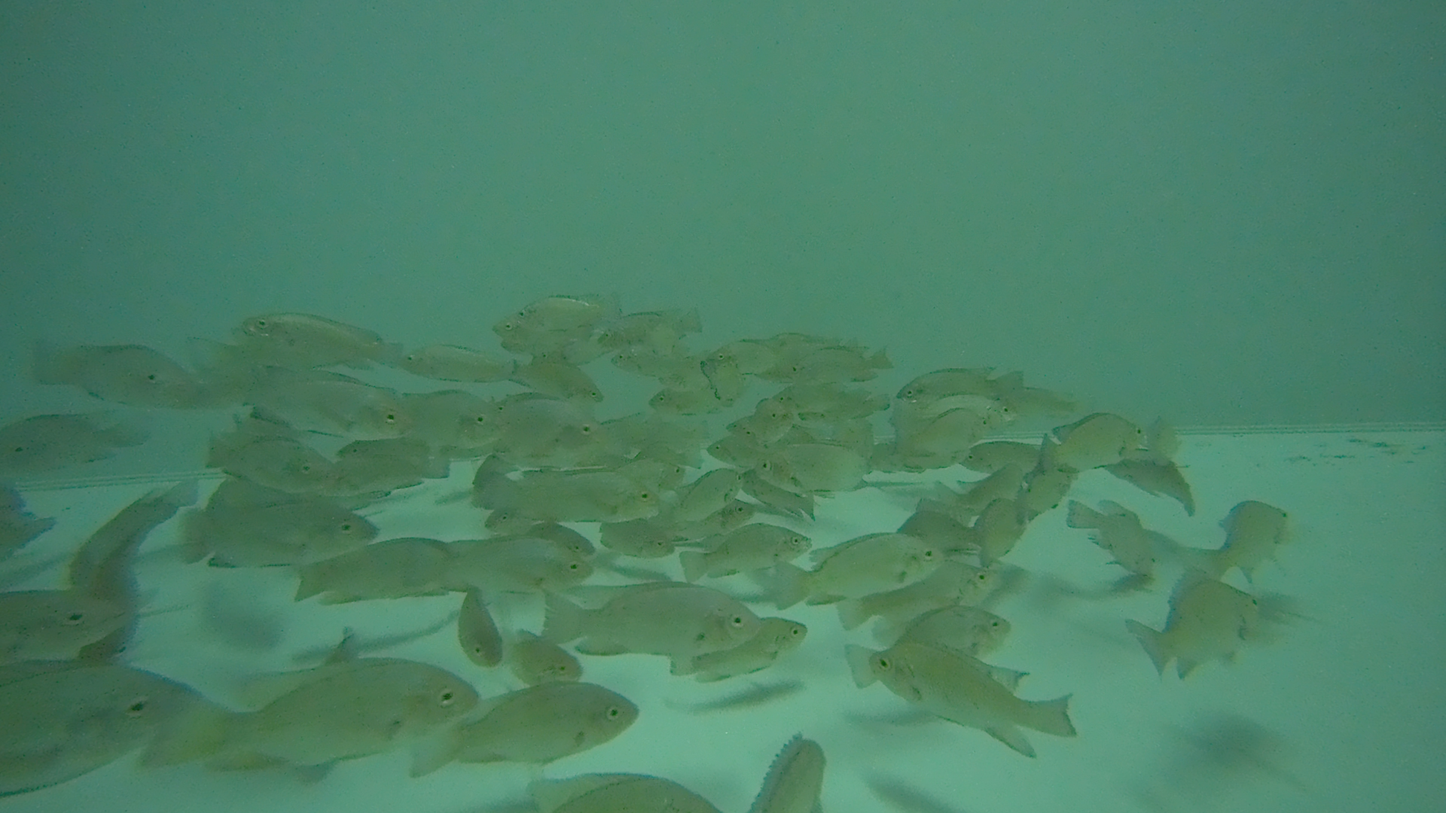fish: (540, 580, 761, 650), (178, 502, 381, 567), (487, 470, 663, 520), (515, 297, 622, 329)
